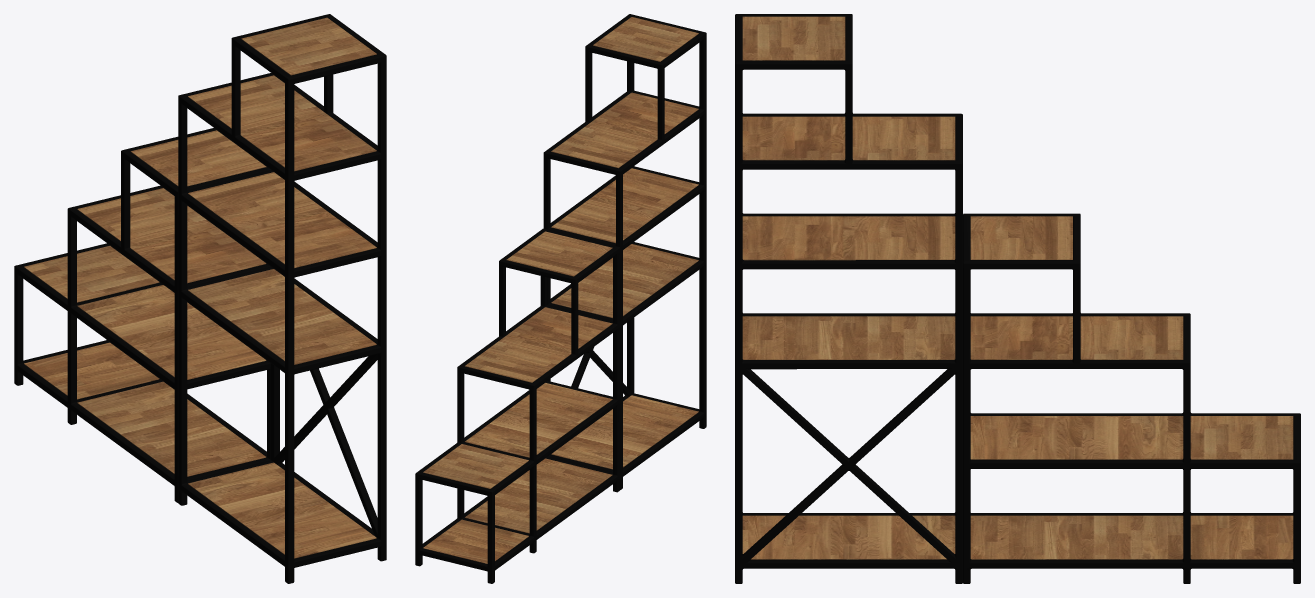
File: small shelf.fbx
The picture shows the model from 3 angles, left to right: view 1: azimuth 30°, elevation 25°; view 2: azimuth 150°, elevation 25°; view 3: azimuth 270°, elevation 25°; orthographic projection. The views are drawn at different scales.
Parts seen in each view (by area): view 1: Cube.013, Cube.010, stair shelf 2, stair shelf 1; view 2: Cube.010, Cube.013, stair shelf 2, stair shelf 1; view 3: Cube.010, Cube.013, stair shelf 2, stair shelf 1.
Boxes of the visible parts, x1,y1,x2,y2 form: Cube.013: (188, 17, 376, 558); Cube.010: (24, 130, 266, 476); stair shelf 2: (178, 14, 386, 583); stair shelf 1: (14, 128, 270, 502); Cube.010: (423, 231, 612, 563); Cube.013: (551, 17, 698, 469); stair shelf 2: (543, 14, 706, 489); stair shelf 1: (415, 228, 619, 583); Cube.010: (970, 216, 1293, 559); Cube.013: (742, 16, 955, 559); stair shelf 2: (735, 14, 962, 583); stair shelf 1: (963, 213, 1300, 583).
Size of what is drawn, in the model's own units: 38.62 by 189 by 186.
